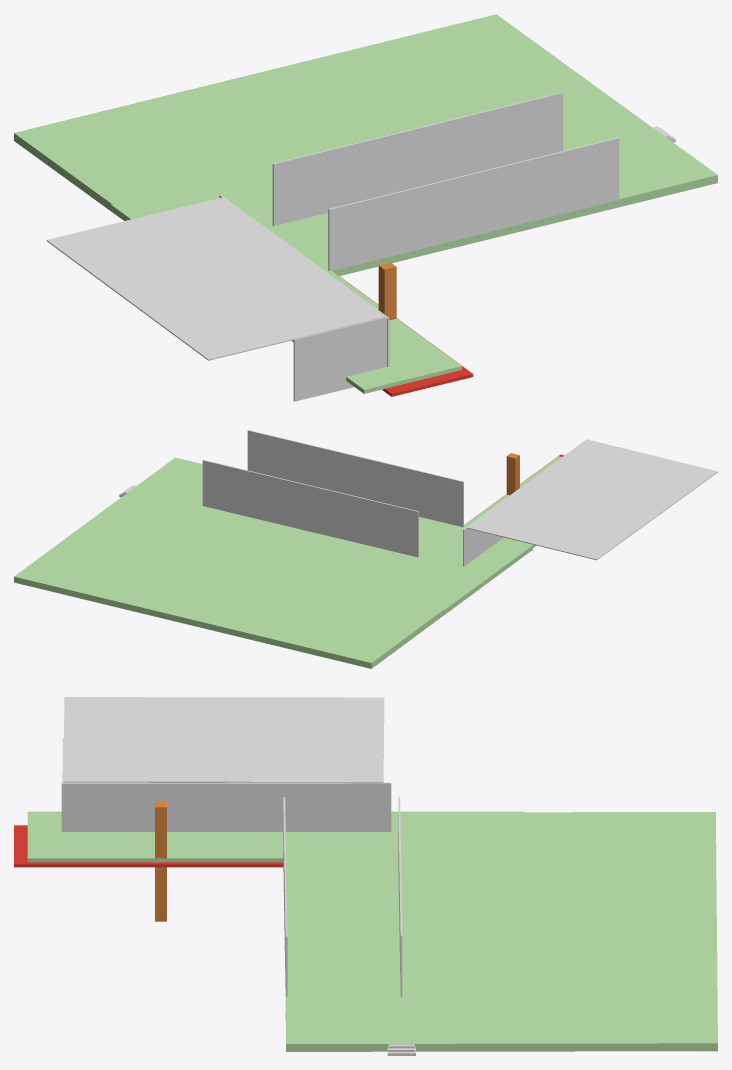
The model's file is FRA. Angelico Building.fbx.
The picture shows the model from 3 angles, top to bottom: view 1: azimuth 30°, elevation 25°; view 2: azimuth 150°, elevation 25°; view 3: azimuth 270°, elevation 25°; orthographic projection. The views are drawn at different scales.
Visible parts, largest first — view 1: Cube.011, Cube.007, Cube.010, Cube.015, Cube.008, Cube.002, Cube.001, Cube.004; view 2: Cube.011, Cube.007, Cube.015, Cube.010, Cube.009, Cube.002, Cube.004; view 3: Cube.011, Cube.007, Cube.009, Cube.002, Cube.001, Cube.004, Cube.010, Cube.015.
Part boxes in pixels (left/top/right/bottom): Cube.011: left=14, top=14, right=717, bottom=275; Cube.007: left=46, top=197, right=385, bottom=360; Cube.010: left=328, top=137, right=619, bottom=271; Cube.015: left=272, top=92, right=563, bottom=226; Cube.008: left=293, top=317, right=386, bottom=401; Cube.002: left=110, top=204, right=461, bottom=393; Cube.001: left=335, top=273, right=473, bottom=396; Cube.004: left=378, top=262, right=396, bottom=320; Cube.011: left=14, top=457, right=532, bottom=668; Cube.007: left=467, top=439, right=717, bottom=560; Cube.015: left=202, top=460, right=418, bottom=557; Cube.010: left=247, top=430, right=463, bottom=527; Cube.009: left=463, top=439, right=587, bottom=566; Cube.002: left=443, top=456, right=561, bottom=613; Cube.004: left=506, top=453, right=519, bottom=495; Cube.011: left=285, top=812, right=717, bottom=1051; Cube.007: left=63, top=697, right=384, bottom=782; Cube.009: left=61, top=782, right=391, bottom=831; Cube.002: left=27, top=811, right=524, bottom=862; Cube.001: left=14, top=825, right=283, bottom=867; Cube.004: left=155, top=801, right=166, bottom=921; Cube.010: left=283, top=797, right=287, bottom=996; Cube.015: left=398, top=796, right=402, bottom=996.
Size of the model in its own units: 63771 by 12337 by 62685.
